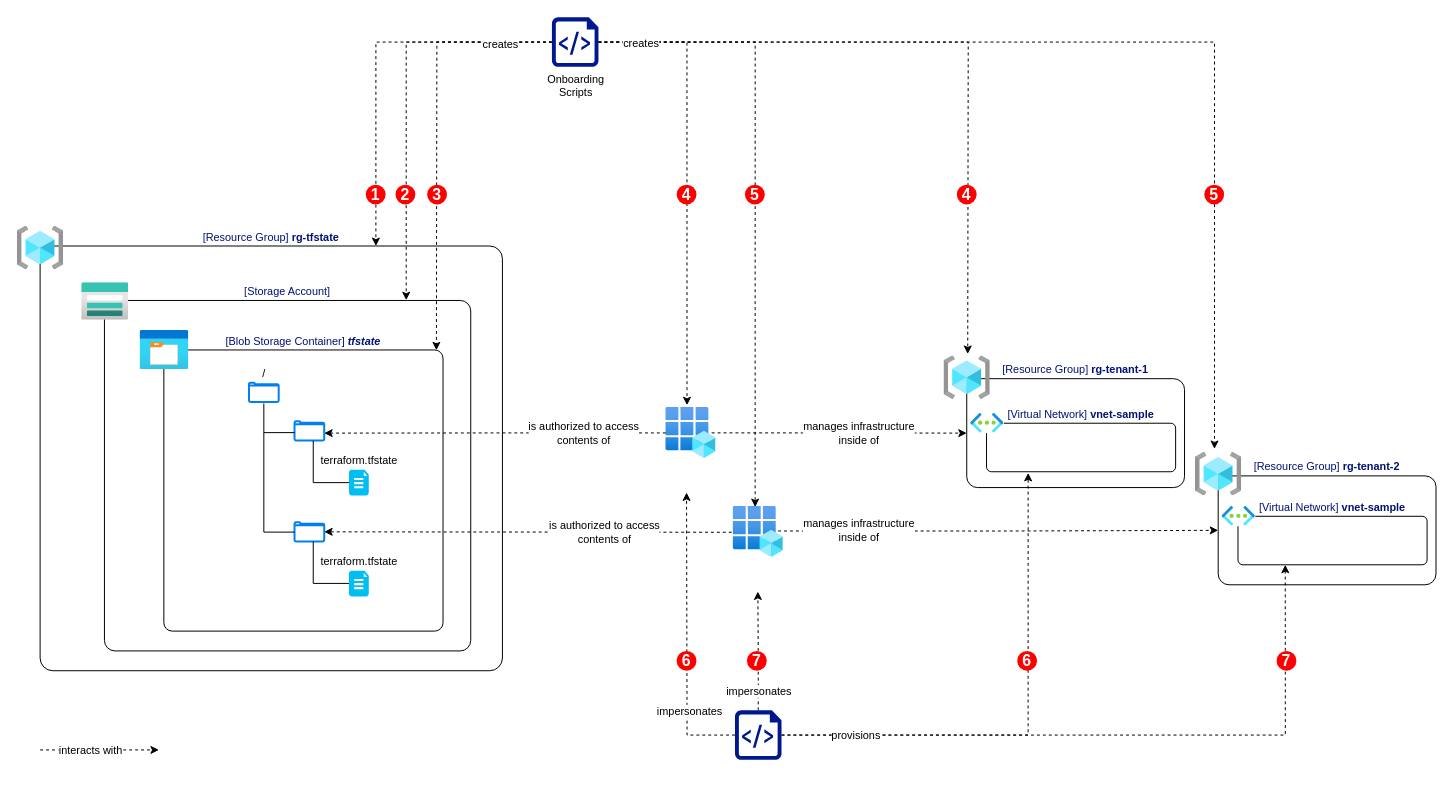
Some shapes in this 1453 by 809 pixel diagram are drawn without their labels. Here are the shapes that lost their labels. From the top down, the centre of each, then its label:
At pixel 309 430: "tenant-1/".
At pixel 690 432: "Service Principal for Tenant 1".
At pixel 309 531: "tenant-2/".
At pixel 758 531: "Service Principal for Tenant 2".
At pixel 757 734: "Terraform Script".
